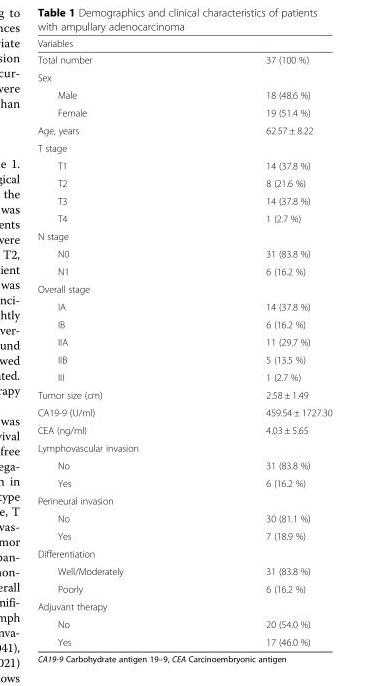table: (36, 37, 331, 647)
table column: (36, 37, 201, 647), (201, 37, 331, 647)
table column header: (36, 37, 331, 51)
table projected row header: (36, 138, 331, 156), (36, 279, 331, 297), (36, 438, 331, 456), (36, 491, 331, 509), (36, 544, 331, 562), (36, 597, 331, 615), (36, 68, 331, 85), (36, 227, 331, 244)
table row: (36, 85, 331, 103), (36, 103, 331, 121), (36, 138, 331, 156), (36, 156, 331, 174), (36, 191, 331, 209), (36, 209, 331, 227), (36, 244, 331, 262), (36, 279, 331, 297), (36, 297, 331, 315), (36, 332, 331, 350), (36, 350, 331, 368), (36, 385, 331, 403), (36, 403, 331, 421), (36, 438, 331, 456), (36, 456, 331, 474), (36, 491, 331, 509), (36, 526, 331, 544), (36, 544, 331, 562), (36, 579, 331, 597), (36, 597, 331, 615), (36, 51, 331, 68), (36, 68, 331, 85), (36, 121, 331, 138), (36, 174, 331, 191), (36, 227, 331, 244), (36, 262, 331, 279), (36, 315, 331, 332), (36, 368, 331, 385), (36, 421, 331, 438), (36, 474, 331, 491), (36, 509, 331, 526), (36, 562, 331, 579), (36, 615, 331, 632), (36, 632, 331, 647), (36, 37, 331, 51)
